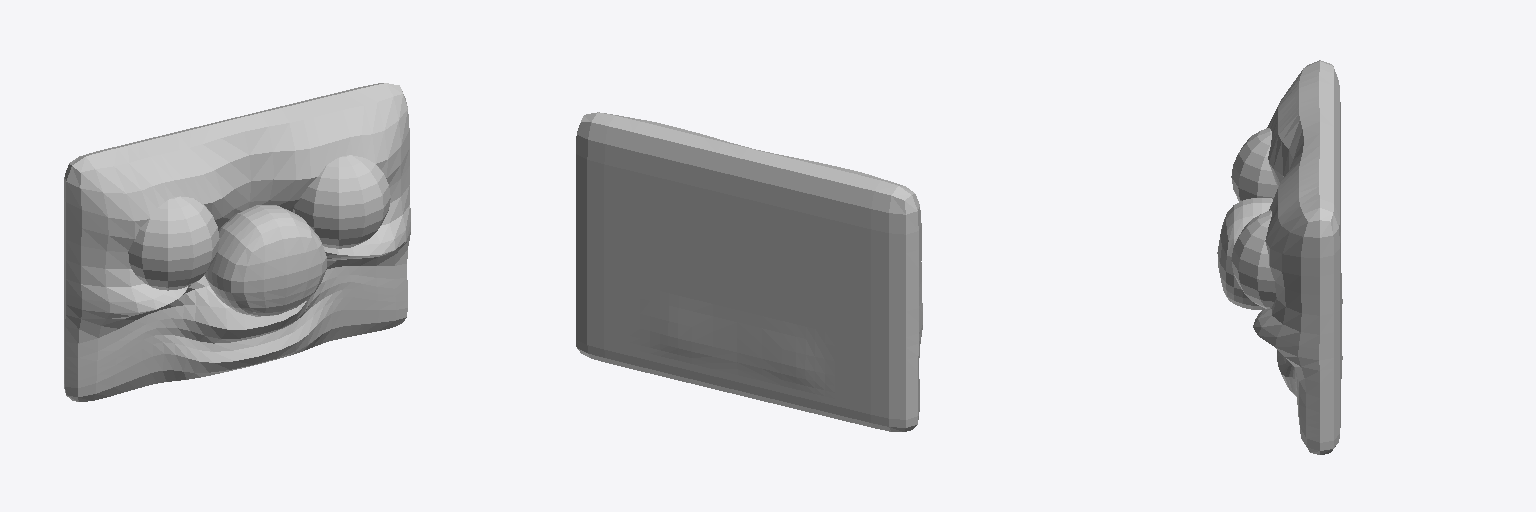
Rendered from curse.obj.
The picture shows the model from 3 angles: view 1: azimuth 30°, elevation 25°; view 2: azimuth 150°, elevation 25°; view 3: azimuth 270°, elevation 25°; orthographic projection.
Parts seen in each view (by area): view 1: curse; view 2: curse; view 3: curse.
Part boxes in pixels (bbox=[...]): curse: bbox=[64, 83, 410, 401]; curse: bbox=[576, 112, 922, 431]; curse: bbox=[1217, 60, 1342, 454].
Size of the model in its own units: 1.94 by 1.33 by 0.6172.